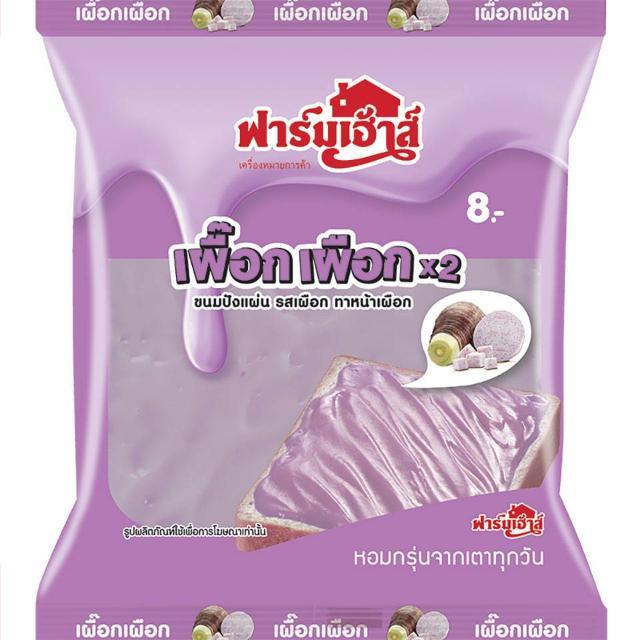Paquete de plastico: (57, 9, 603, 634)
